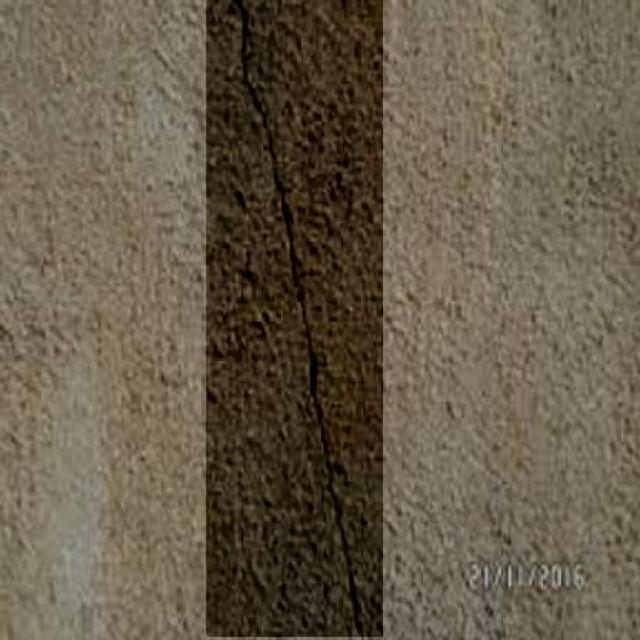Crack: (208, 3, 390, 640)
